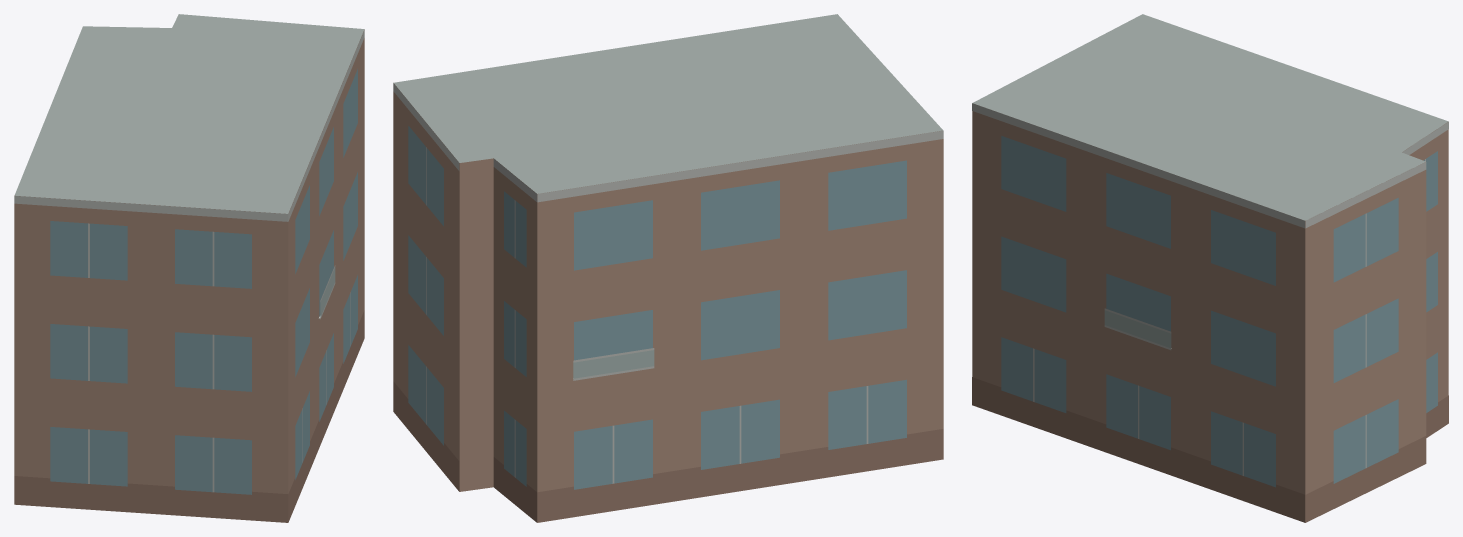
File: survey-upis-32674161.glb
3 views of the same model, side by side, from view 1: azimuth 30°, elevation 25°; view 2: azimuth 150°, elevation 25°; view 3: azimuth 270°, elevation 25° (orthographic). The views are drawn at different scales.
Parts seen in each view (by area): view 1: survey-upis-32674161.tmp; view 2: survey-upis-32674161.tmp; view 3: survey-upis-32674161.tmp.
Part boxes in pixels (left/top/right/bottom): survey-upis-32674161.tmp: left=14, top=14, right=364, bottom=522; survey-upis-32674161.tmp: left=393, top=14, right=943, bottom=522; survey-upis-32674161.tmp: left=972, top=14, right=1448, bottom=522.
Size of the model in its own units: 13.96 by 9.5 by 13.59.
